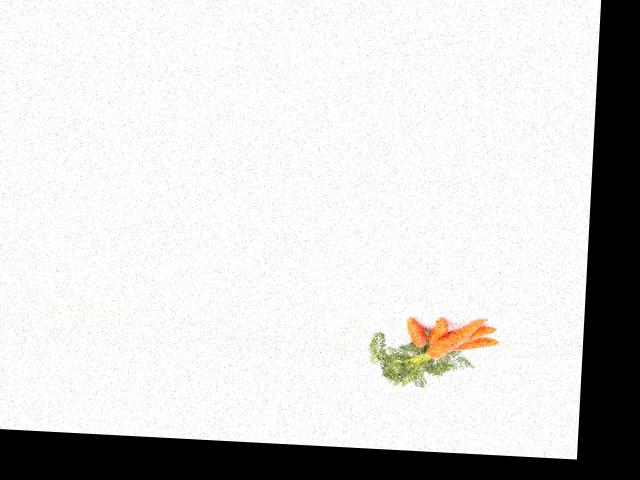carrot: (418, 312, 485, 366)
